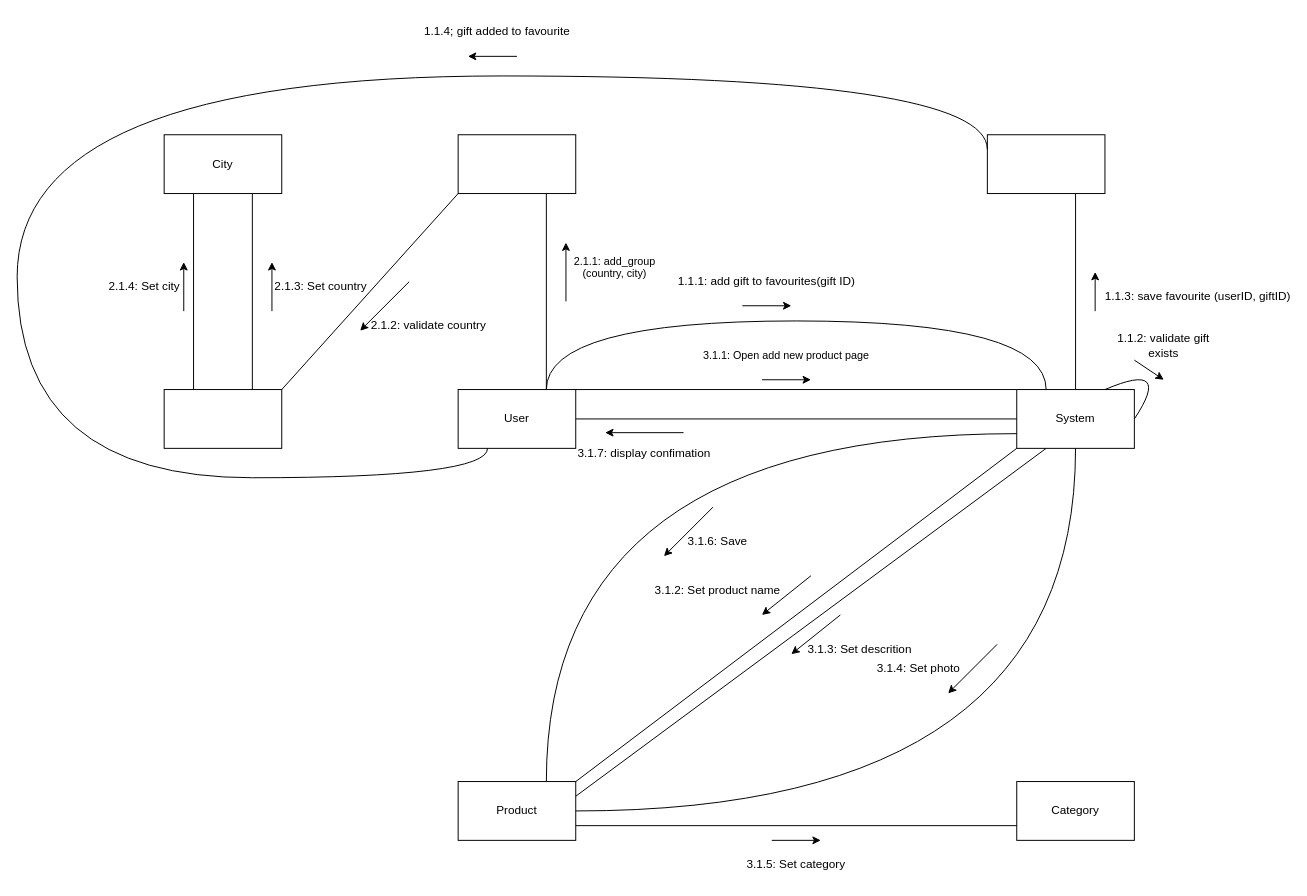
The diagram is 1307 pixels wide and 896 high, and some of its shapes have lost their labels. The box of each missing label's shape, as (x1, y1, x2, y2) in pixels:
Country: (163, 389, 282, 448)
Database: (986, 134, 1105, 194)
GroupForm: (457, 134, 576, 194)
